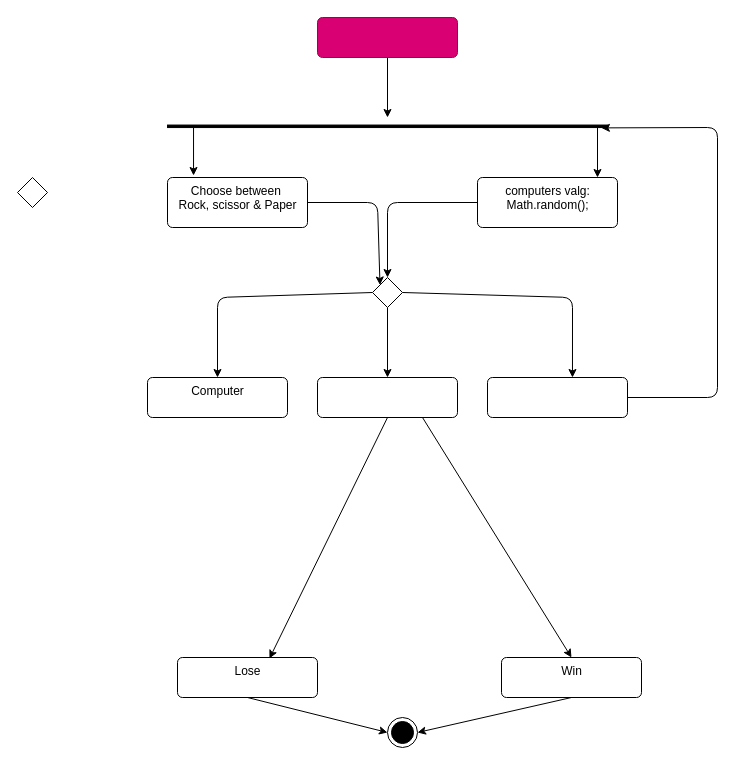
This 743x765 diagram has some shape labels left out. Each missing label, with the box of its shape:
load Game: (316, 16, 458, 58)
Spilier: (316, 376, 458, 418)
uafgjort: (486, 376, 628, 418)
